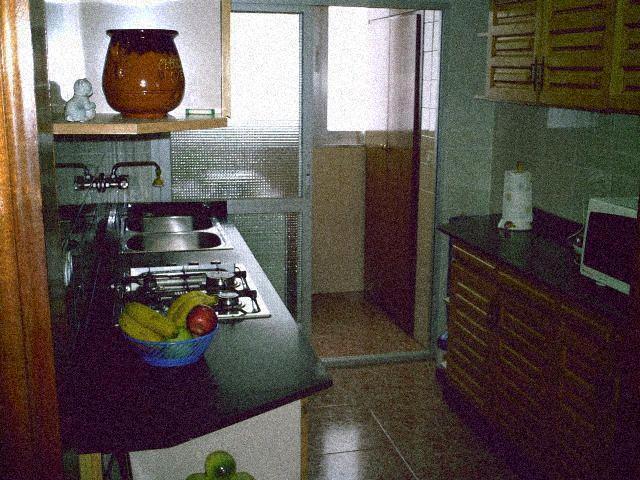Electrodomestico: (119, 260, 266, 318)
Lavaplatos: (104, 163, 233, 251)
